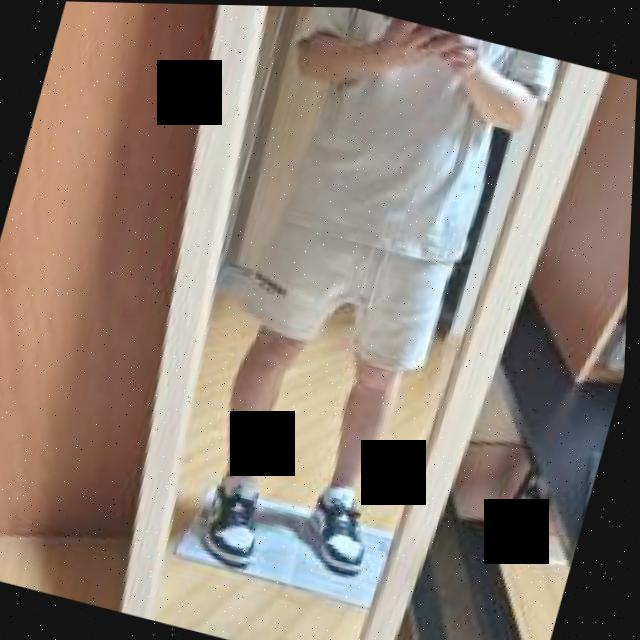shoe: (314, 486, 369, 574), (210, 475, 263, 566)
